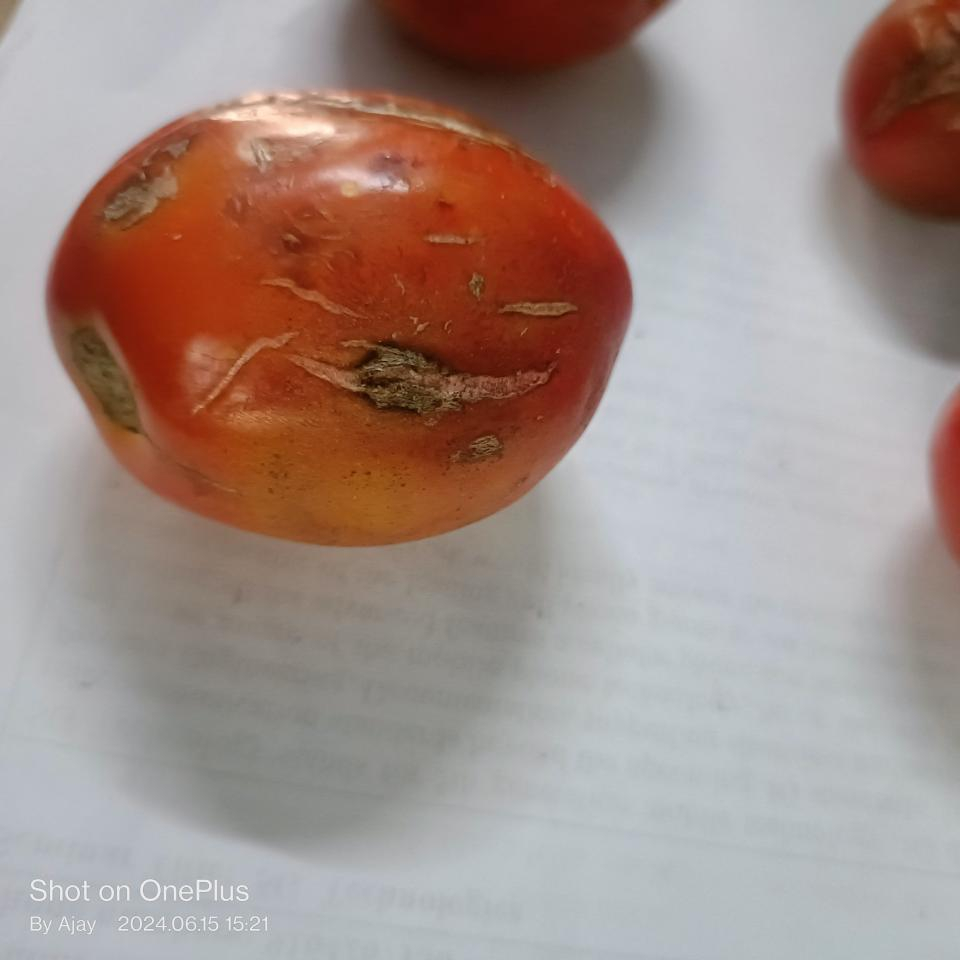Cracking: (184, 322, 573, 457), (84, 122, 211, 227), (245, 254, 385, 327), (462, 280, 598, 338)
